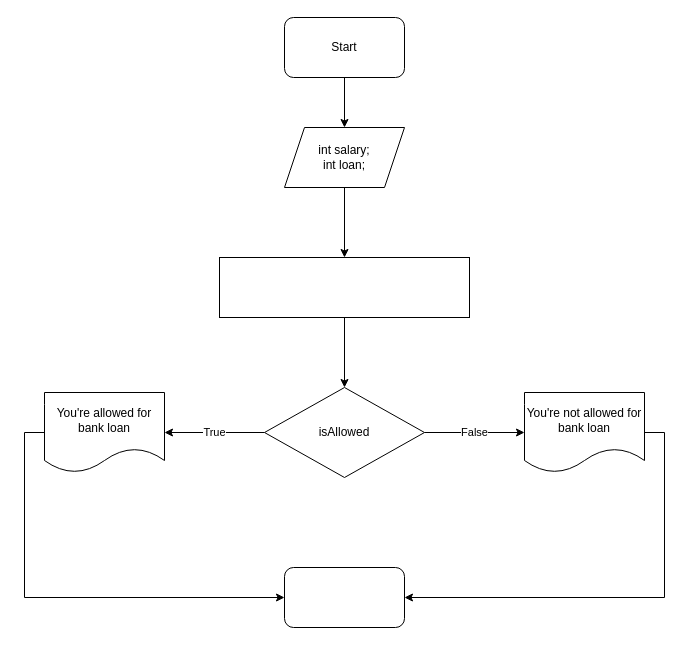
This 690x645 diagram has some shape labels left out. The centre of each missing label's shape, as x and y in pixels:
"bool isAllowed = loan <= (salary * 12) * 0.6" belongs at (344,287).
"End" belongs at (344,597).
